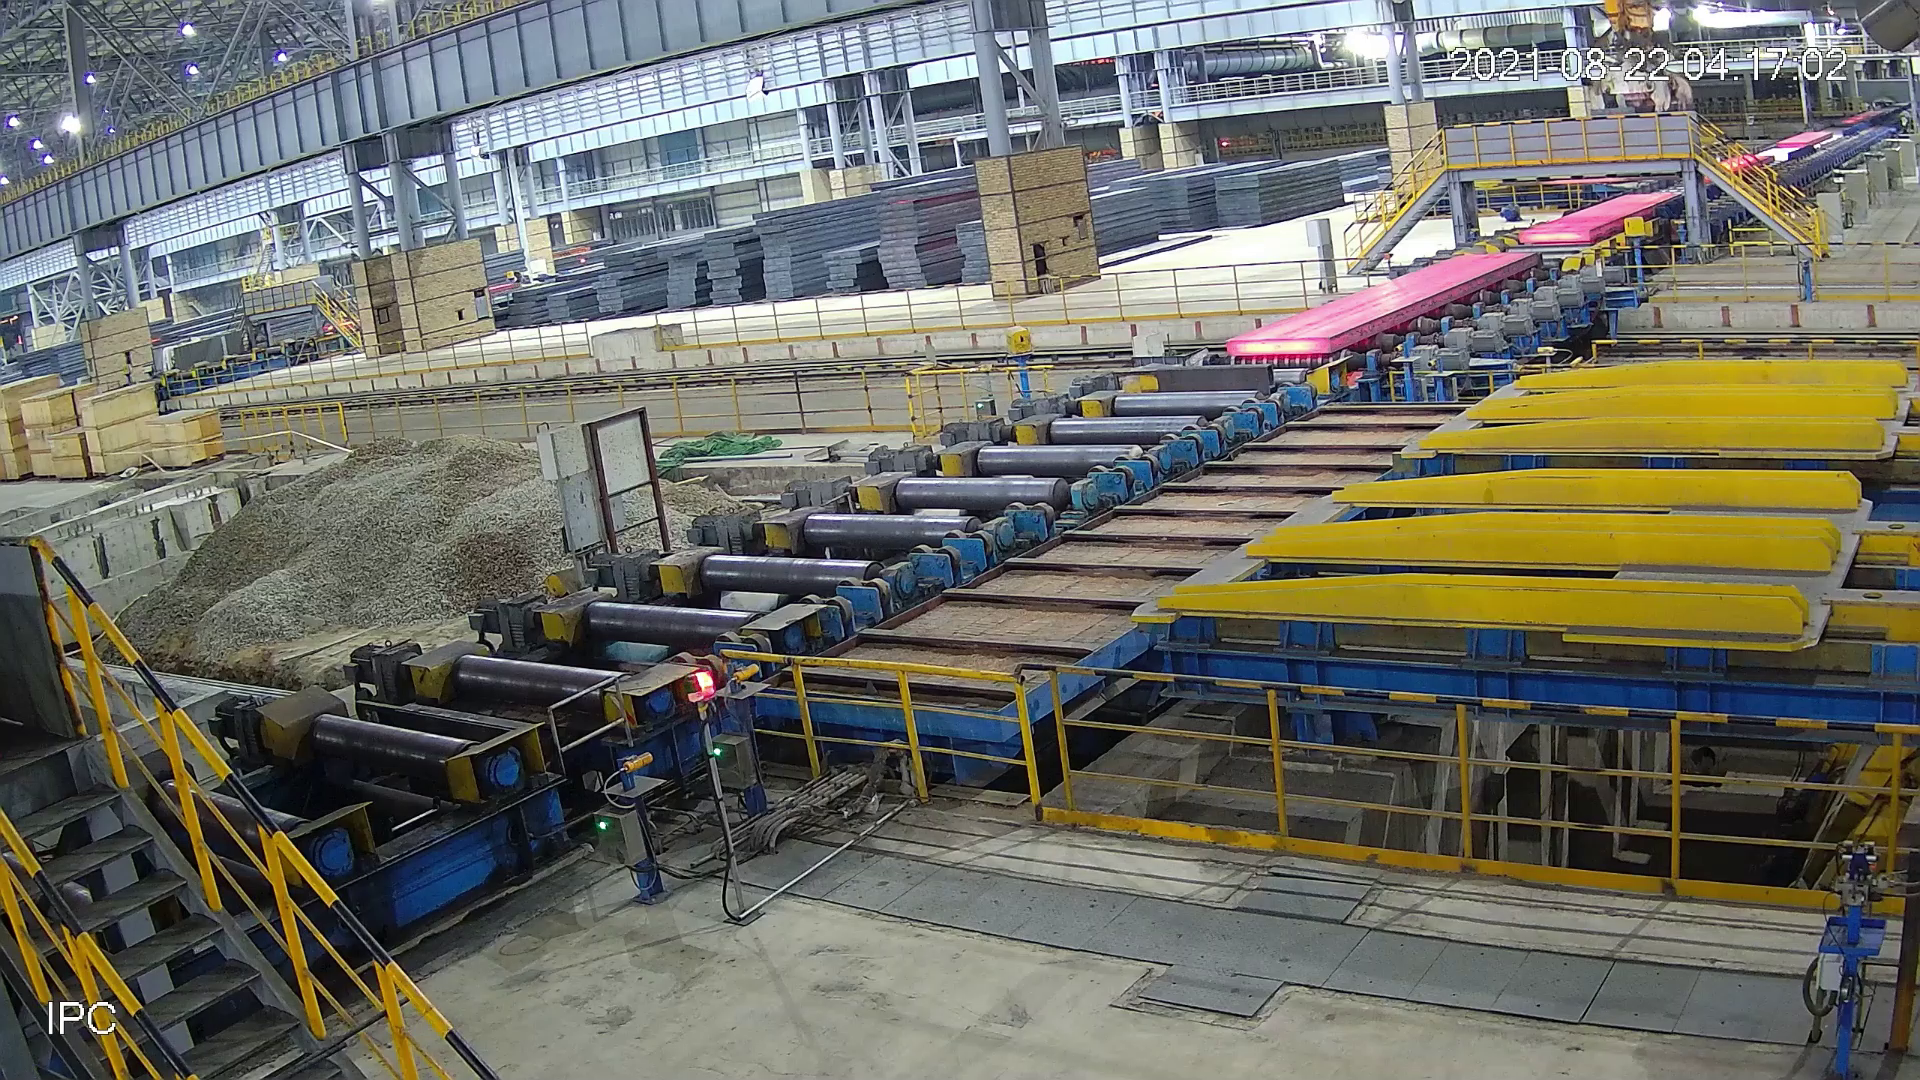craneandslab: (1588, 1, 1697, 121)
slab: (1221, 252, 1542, 363), (1520, 193, 1685, 243)
